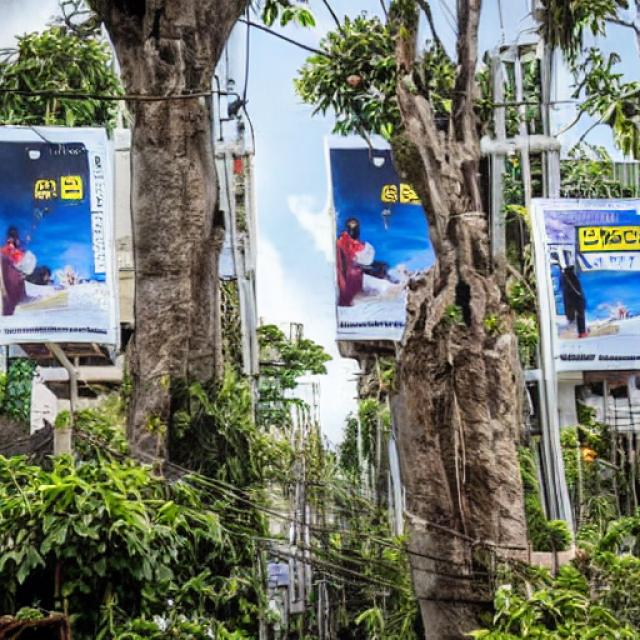Billboard: (0, 128, 117, 342), (328, 146, 451, 346), (531, 193, 640, 367)
